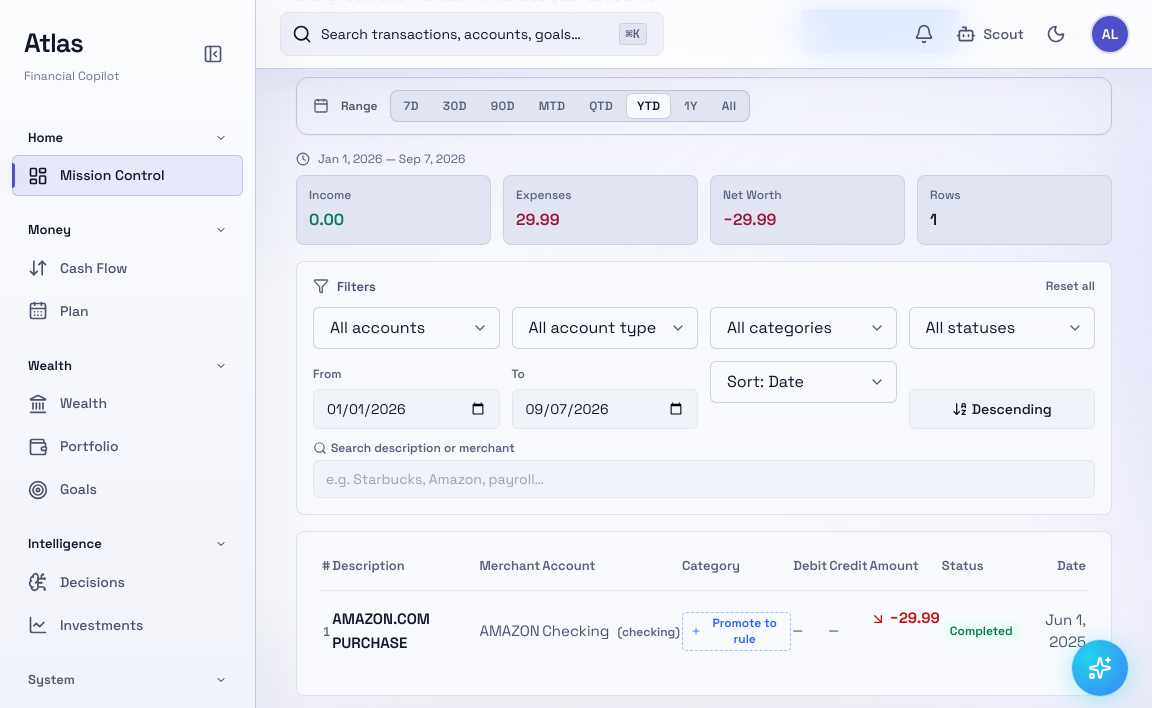
it: Activity Page — Phase 28 + 30 Untagged filter › promote panel shows an editable keyword input (not readonly text)
(page scrolled)
Click the "Promote to rule" button on row 1.
What coordinates should you click on to do the following:
click the button with test id "activity-promote-trigger-1"
I would click on:
 (737, 631)
Its box is [682, 612, 791, 650].
(page scrolled)
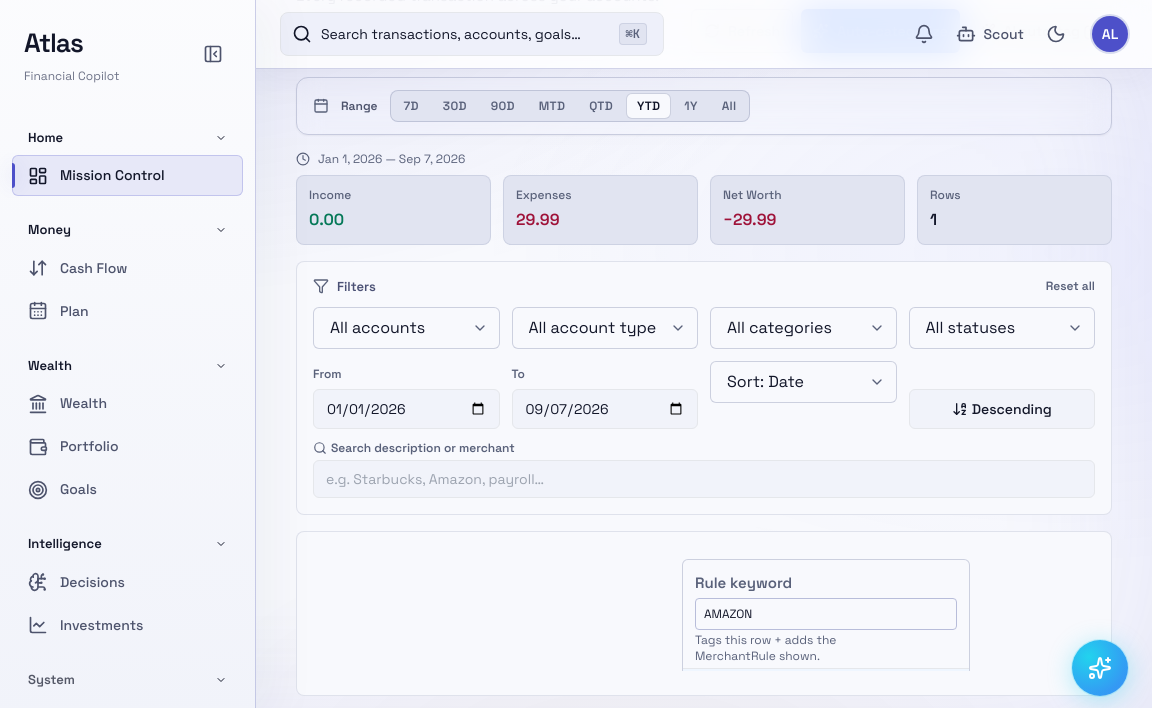
Check: the field with test id "activity-promote-keyword-input-1" holds "AMAZON", box [695, 598, 957, 630]
